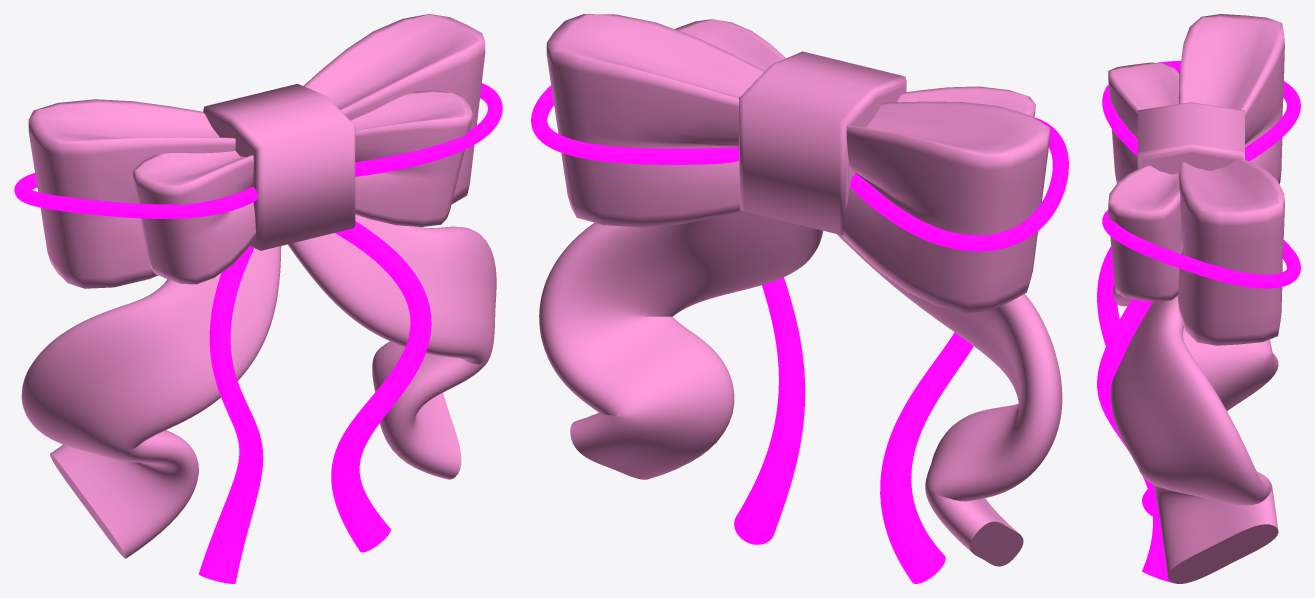
Rendered from jellyFish-bow-1.fbx.
The picture shows the model from 3 angles, left to right: view 1: azimuth 30°, elevation 25°; view 2: azimuth 150°, elevation 25°; view 3: azimuth 270°, elevation 25°; orthographic projection. The views are drawn at different scales.
Parts seen in each view (by area): view 1: 大蝴蝶结飘带, 大蝴蝶结.001, 蝴蝶结, NURBS路径.002, 蝴蝶结中间, NURBS路径.003; view 2: 大蝴蝶结.001, 大蝴蝶结飘带, 蝴蝶结中间, NURBS路径.002, NURBS路径.003, 蝴蝶结; view 3: 大蝴蝶结飘带, 大蝴蝶结.001, 蝴蝶结, 蝴蝶结中间, NURBS路径.003, NURBS路径.002.
Boxes of the visible parts, x1,y1,x2,y2 form: 大蝴蝶结飘带: (21,214,496,558); 大蝴蝶结.001: (28,14,485,288); 蝴蝶结: (133,90,472,284); NURBS路径.002: (199,221,431,583); 蝴蝶结中间: (203,84,355,250); NURBS路径.003: (14,83,502,218); 大蝴蝶结.001: (546,14,1049,313); 大蝴蝶结飘带: (539,211,1062,566); 蝴蝶结中间: (739,51,906,235); NURBS路径.002: (734,277,973,583); NURBS路径.003: (531,85,1068,251); 蝴蝶结: (675,19,1035,117); 大蝴蝶结飘带: (1110,284,1278,583); 大蝴蝶结.001: (1177,14,1284,345); 蝴蝶结: (1108,62,1195,302); 蝴蝶结中间: (1137,102,1244,174); NURBS路径.003: (1102,60,1300,288); NURBS路径.002: (1097,246,1172,582).
Size of the model in its own units: 2.98 by 2.83 by 1.2.
